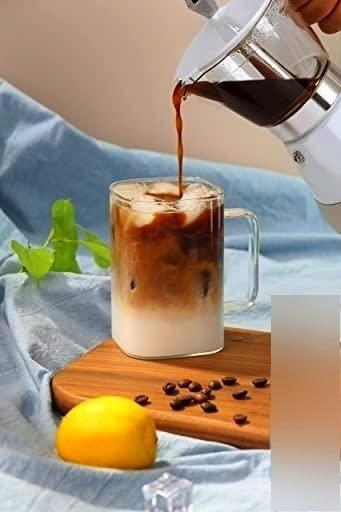glass-mug: (104, 172, 266, 365)
